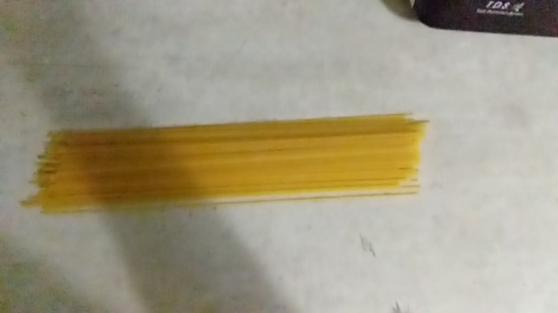spaghetti: (24, 100, 450, 224)
